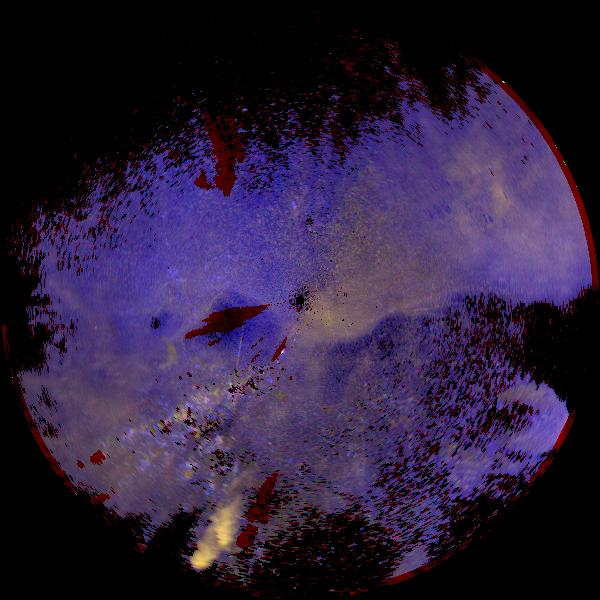roost: (135, 334, 192, 391)
